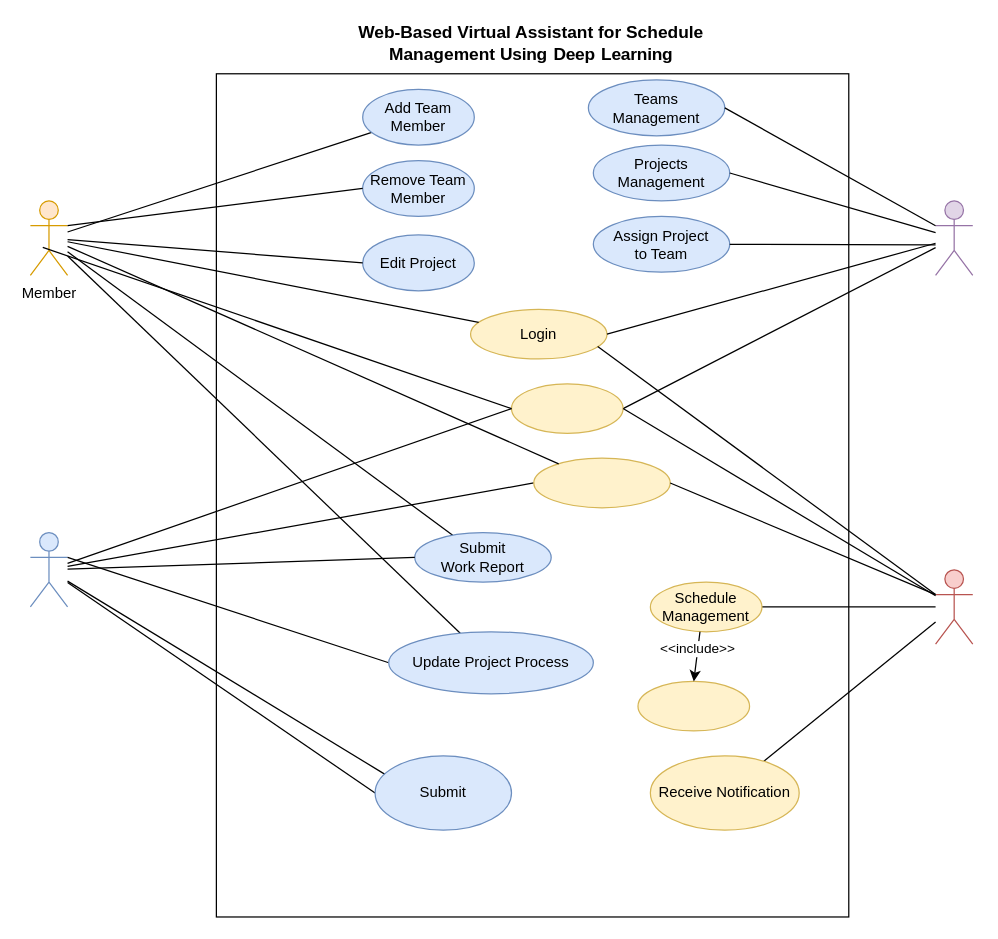
The diagram is 998 pixels wide and 939 high, and some of its shapes have lost their labels. The centre of each missing label's shape, as x and y in pixels:
"Account Management" belongs at (566,408).
"Admin" belongs at (953,237).
"Leader" belongs at (953,606).
"Register" belongs at (601,482).
"User" belongs at (48,569).
"Voice Input" belongs at (693,705).
